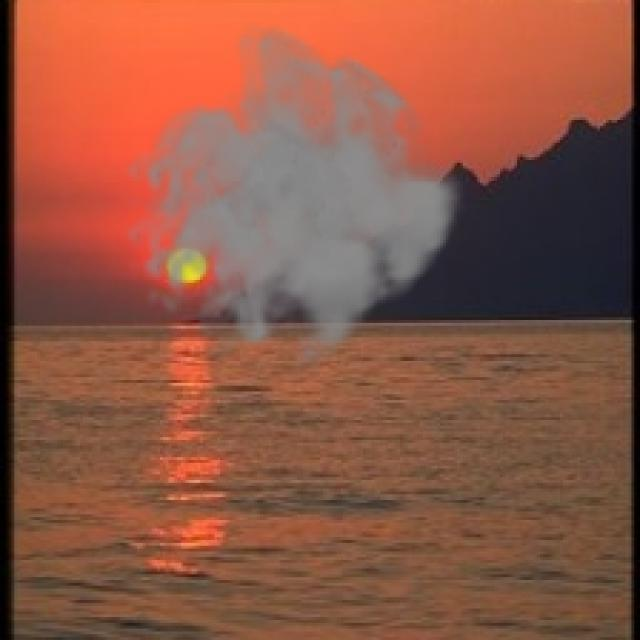smoke: (123, 20, 466, 380)
